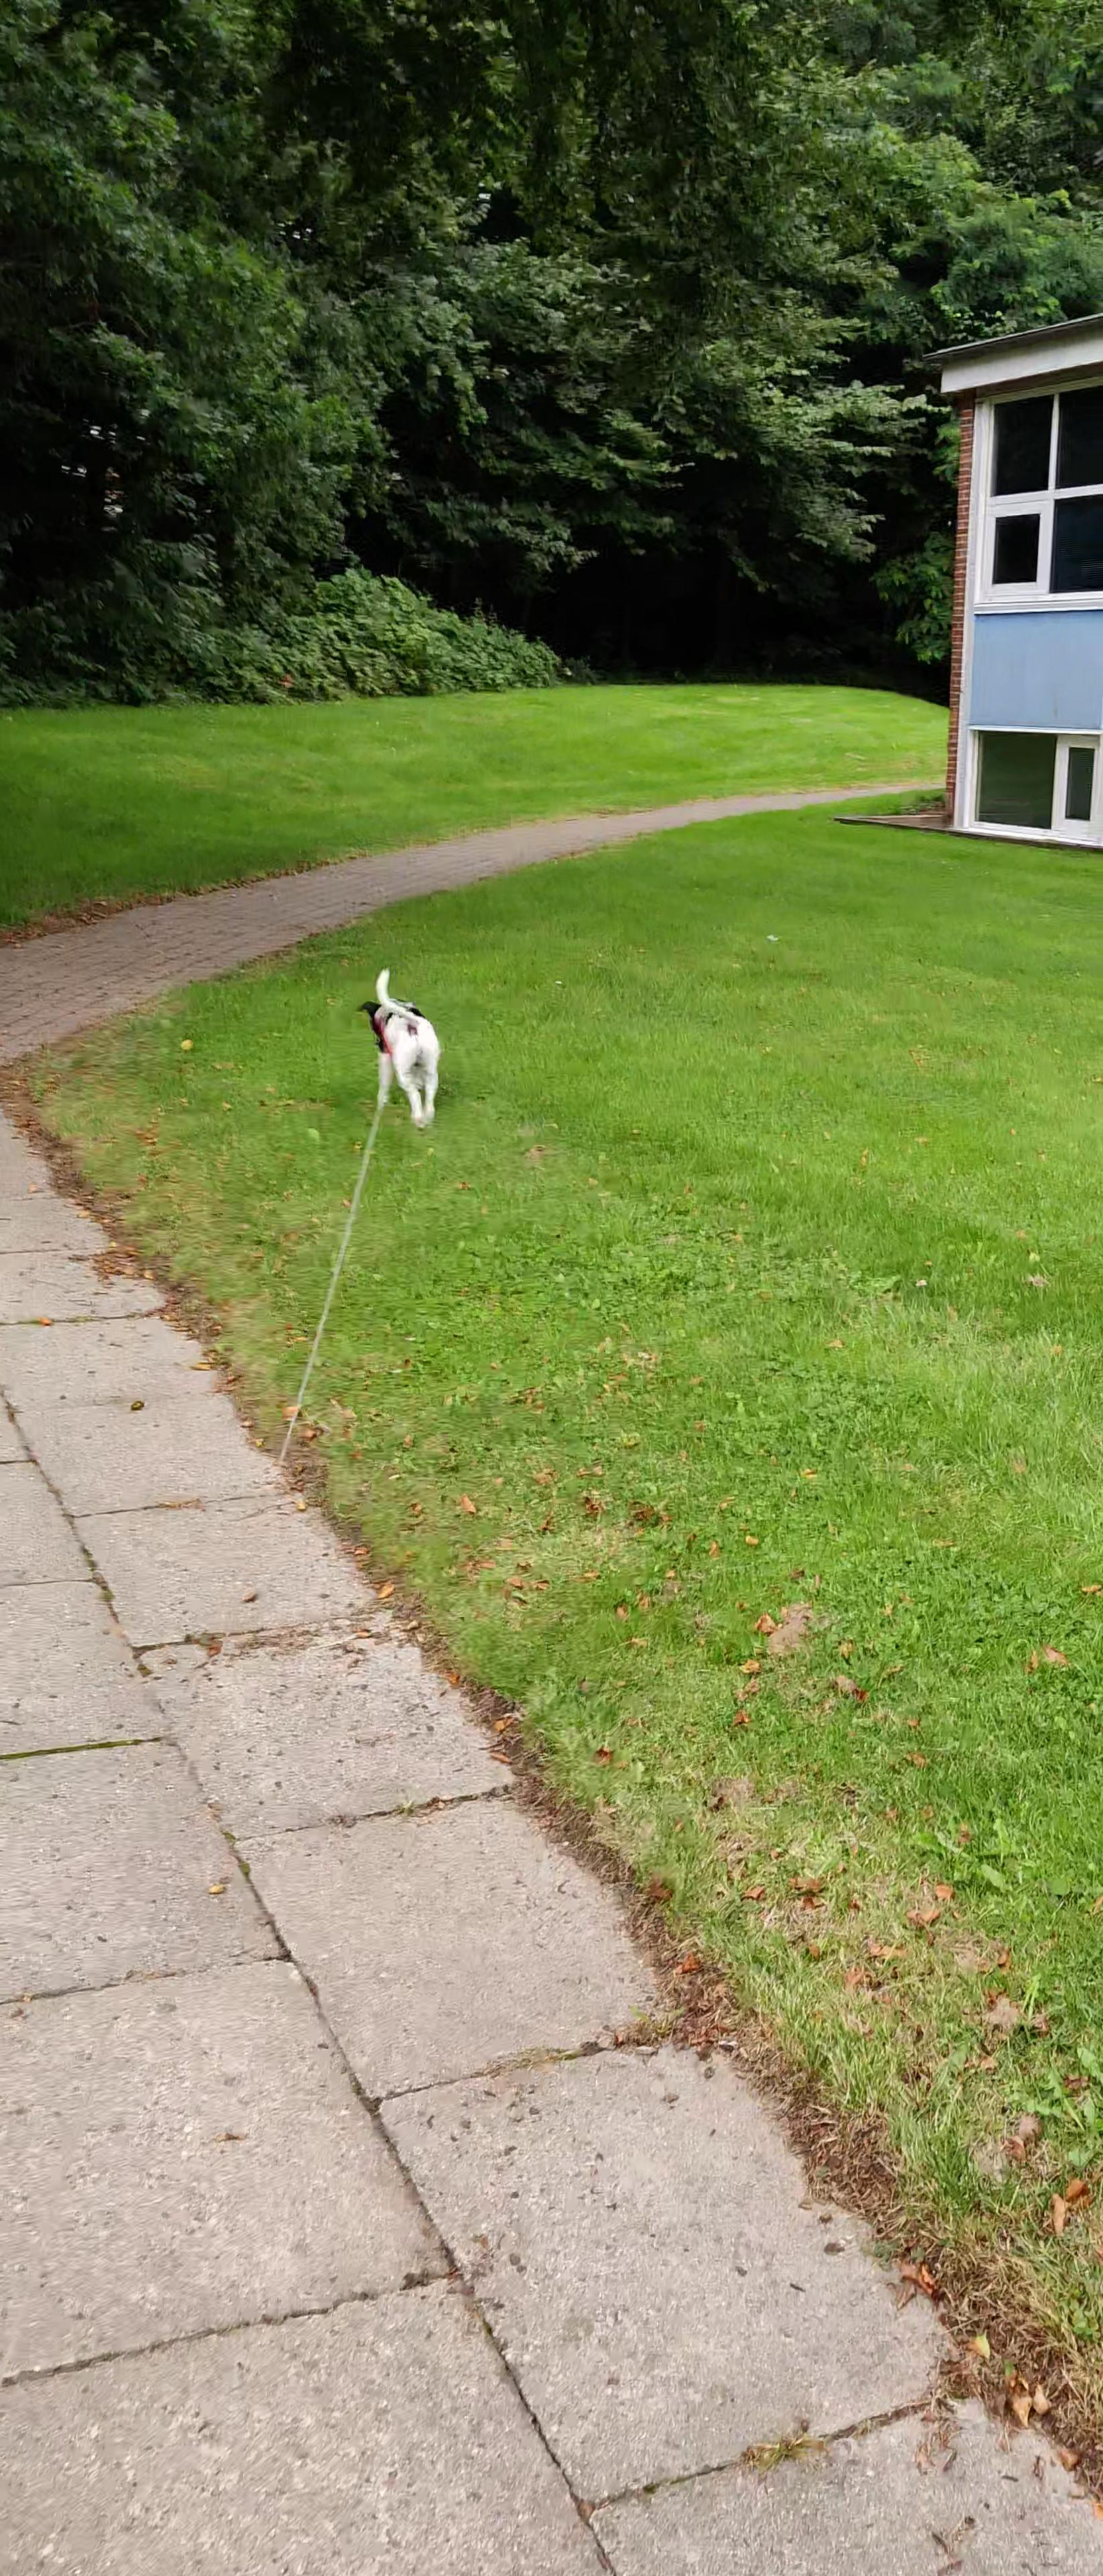Dog: (355, 959, 449, 1132)
